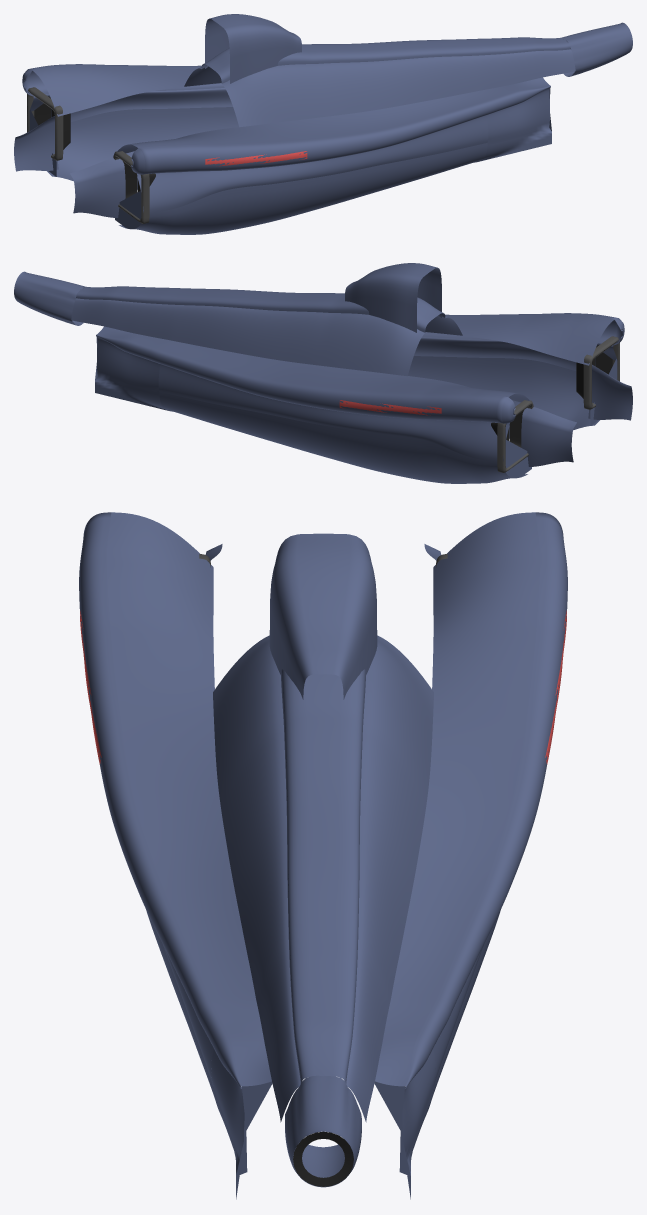
The model's file is body_v6.glb.
The picture shows the model from 3 angles, top to bottom: view 1: azimuth 30°, elevation 25°; view 2: azimuth 150°, elevation 25°; view 3: azimuth 270°, elevation 25°; orthographic projection. The views are drawn at different scales.
Visible parts, largest first — view 1: EngineCover_SidePanel_RH, Sidepod_Undercut_Panel_RH, Sidepod_Ridge_RH, Sidepod_Body_RH, Sidepod_Top_Panel_RH, Sidepod_Undercut_Panel_LH, EngineCover_Spine, Sidepod_Top_Panel_LH, Airbox_Surround, Sidepod_Rear_Taper_RH, Sidepod_Body_LH, Cockpit_Side_Panel_RH (+10 smaller); view 2: EngineCover_SidePanel_LH, Sidepod_Undercut_Panel_LH, Sidepod_Ridge_LH, Sidepod_Body_LH, Sidepod_Top_Panel_LH, Sidepod_Undercut_Panel_RH, EngineCover_Spine, Sidepod_Top_Panel_RH, Airbox_Surround, Sidepod_Rear_Taper_LH, Sidepod_Body_RH, Cockpit_Side_Panel_LH (+10 smaller); view 3: Sidepod_Top_Panel_LH, Sidepod_Top_Panel_RH, EngineCover_Spine, EngineCover_SidePanel_LH, EngineCover_SidePanel_RH, Sidepod_Ridge_LH, Sidepod_Ridge_RH, Airbox_Surround, Body_Rear_TailCap, Sidepod_Rear_Taper_LH, Sidepod_Rear_Taper_RH, Body_Rear_HotAirExit (+4 smaller).
Part boxes in pixels (<box>): EngineCover_SidePanel_RH: <box>222,49,575,127</box>; Sidepod_Undercut_Panel_RH: <box>119,143,487,234</box>; Sidepod_Ridge_RH: <box>131,86,550,174</box>; Sidepod_Body_RH: <box>137,115,488,213</box>; Sidepod_Top_Panel_RH: <box>113,77,550,156</box>; Sidepod_Undercut_Panel_LH: <box>47,107,238,189</box>; EngineCover_Spine: <box>201,37,570,83</box>; Sidepod_Top_Panel_LH: <box>33,65,221,116</box>; Airbox_Surround: <box>205,14,301,83</box>; Sidepod_Rear_Taper_RH: <box>482,87,551,160</box>; Sidepod_Body_LH: <box>29,88,232,121</box>; Cockpit_Side_Panel_RH: <box>70,158,125,217</box>; EngineCover_SidePanel_LH: <box>71,298,424,376</box>; Sidepod_Undercut_Panel_LH: <box>159,392,527,483</box>; Sidepod_Ridge_LH: <box>96,335,515,423</box>; Sidepod_Body_LH: <box>158,364,509,462</box>; Sidepod_Top_Panel_LH: <box>96,326,533,405</box>; Sidepod_Undercut_Panel_RH: <box>408,356,599,438</box>; EngineCover_Spine: <box>76,286,445,332</box>; Sidepod_Top_Panel_RH: <box>425,314,613,365</box>; Airbox_Surround: <box>345,263,441,332</box>; Sidepod_Rear_Taper_LH: <box>95,336,164,409</box>; Sidepod_Body_RH: <box>414,337,617,370</box>; Cockpit_Side_Panel_LH: <box>521,407,576,466</box>; Sidepod_Top_Panel_LH: <box>375,512,540,1086</box>; Sidepod_Top_Panel_RH: <box>106,512,271,1086</box>; EngineCover_Spine: <box>281,669,365,1083</box>; EngineCover_SidePanel_LH: <box>346,635,433,1122</box>; EngineCover_SidePanel_RH: <box>213,635,300,1122</box>; Sidepod_Ridge_LH: <box>405,512,567,1088</box>; Sidepod_Ridge_RH: <box>79,512,241,1088</box>; Airbox_Surround: <box>269,533,377,699</box>; Body_Rear_TailCap: <box>285,1075,361,1187</box>; Sidepod_Rear_Taper_LH: <box>402,1049,435,1175</box>; Sidepod_Rear_Taper_RH: <box>211,1049,244,1175</box>; Body_Rear_HotAirExit: <box>293,1131,353,1186</box>.
Bounding box in the file's own units: 2.99 × 0.8919 × 1.09.
